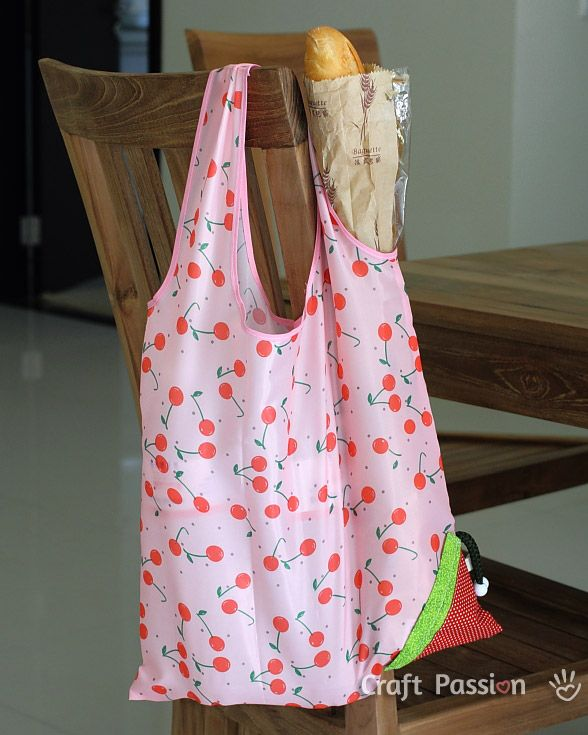nylon: (128, 64, 502, 710)
